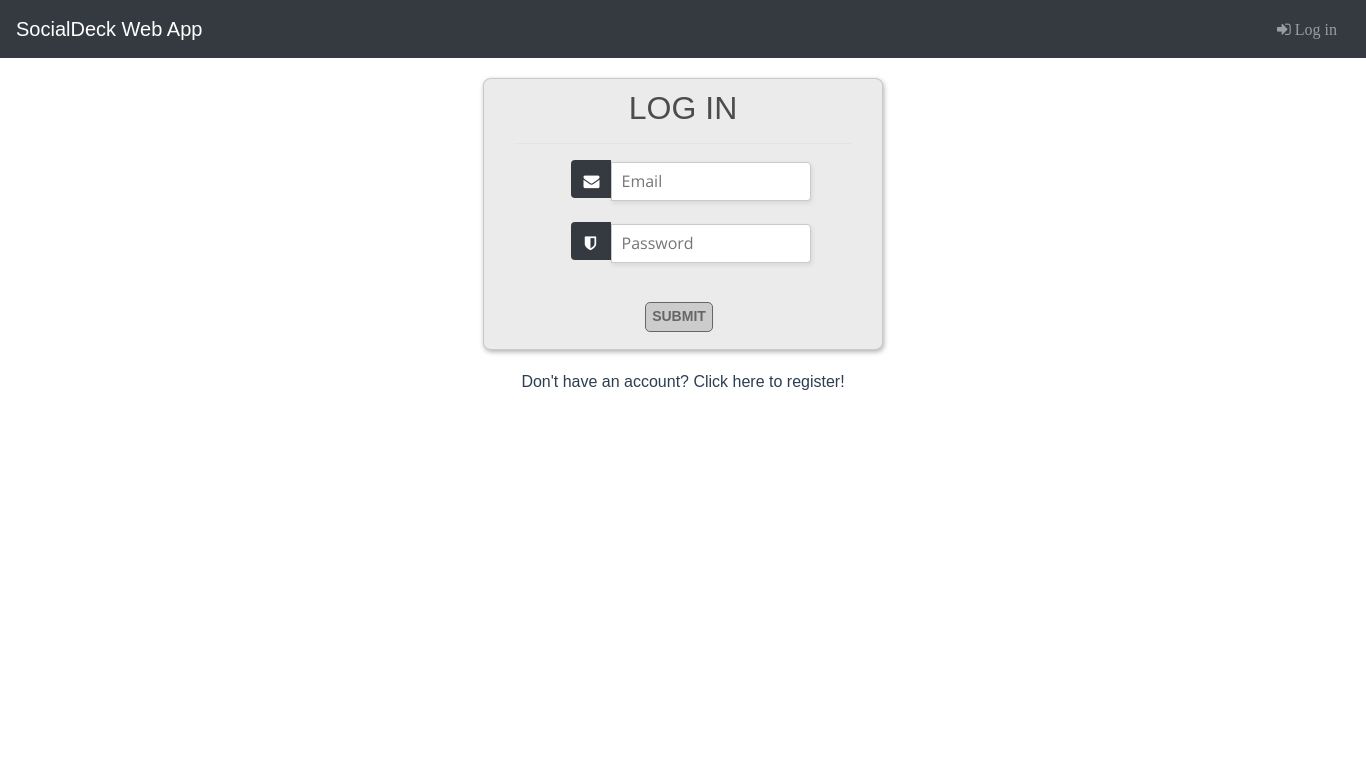
Test: Authentication page › When a user enters the sign in page › and is an invalid user › should fail if the email is not of valid format
The width and height of the screenshot is (1366, 768).
Click the link "Don't have an account? Click here to register!" at (683, 382), box [521,373,844,390]
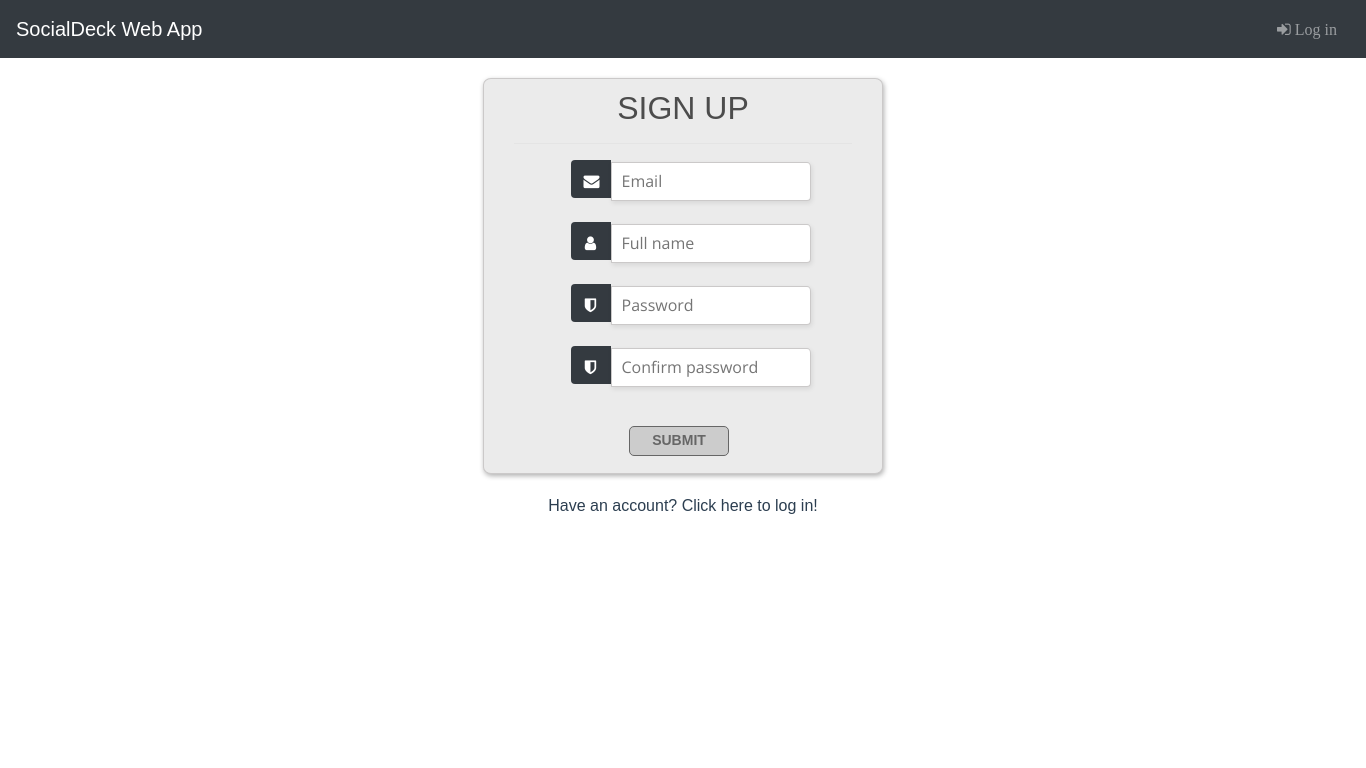
Type "nonexistent@" into the field with id "email" at (711, 182), box [611,162,811,201]
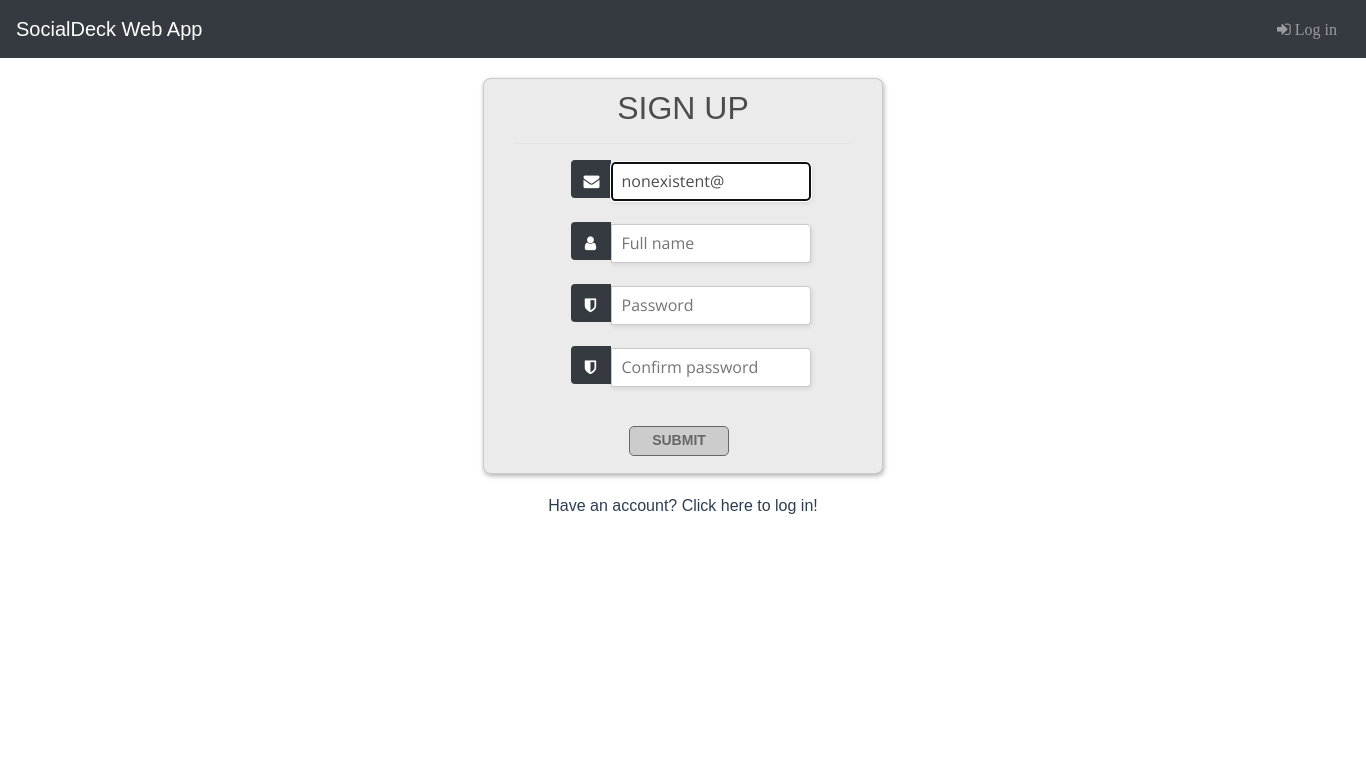
Type "Tsvetoslav Dimov" into the field with id "fullName" at (711, 244), box [611,224,811,263]
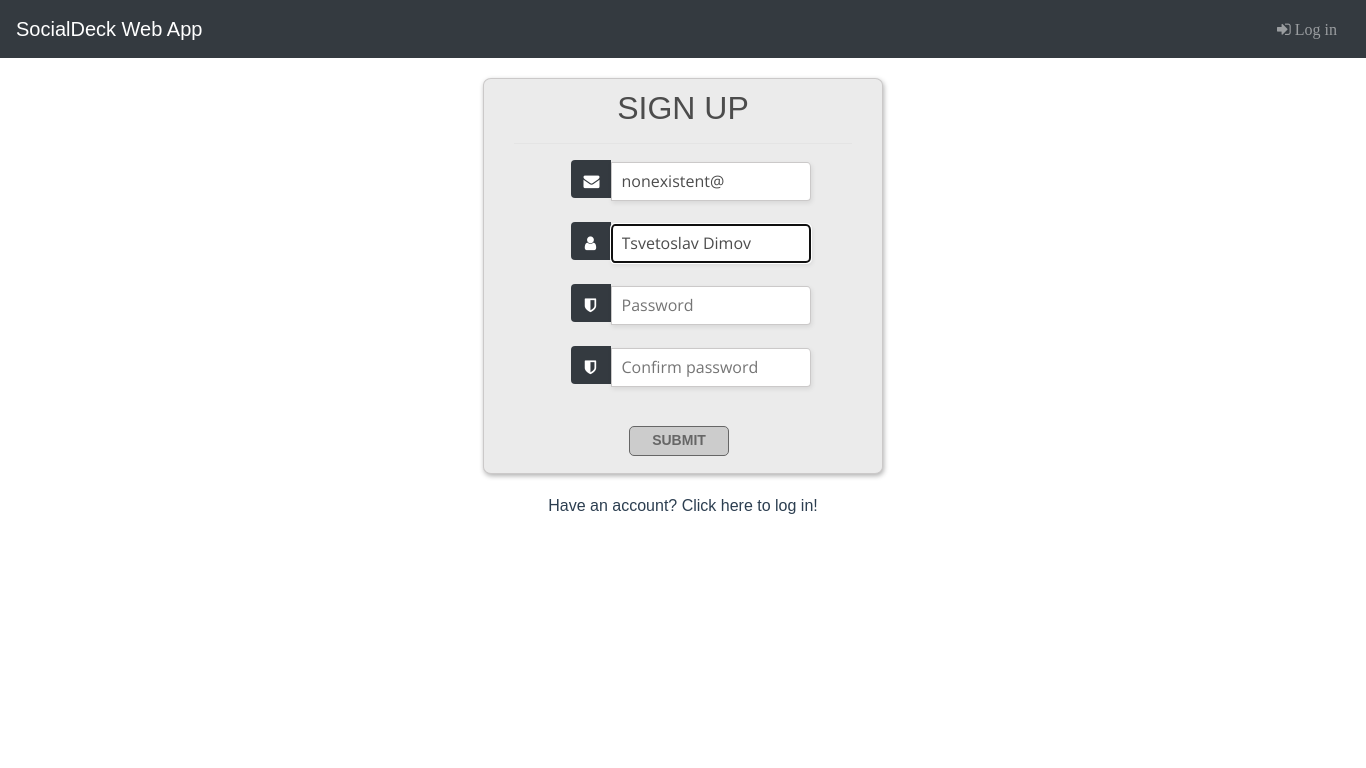
Type "123456" into the password field with placeholder "Password" at (711, 306), box [611,286,811,325]
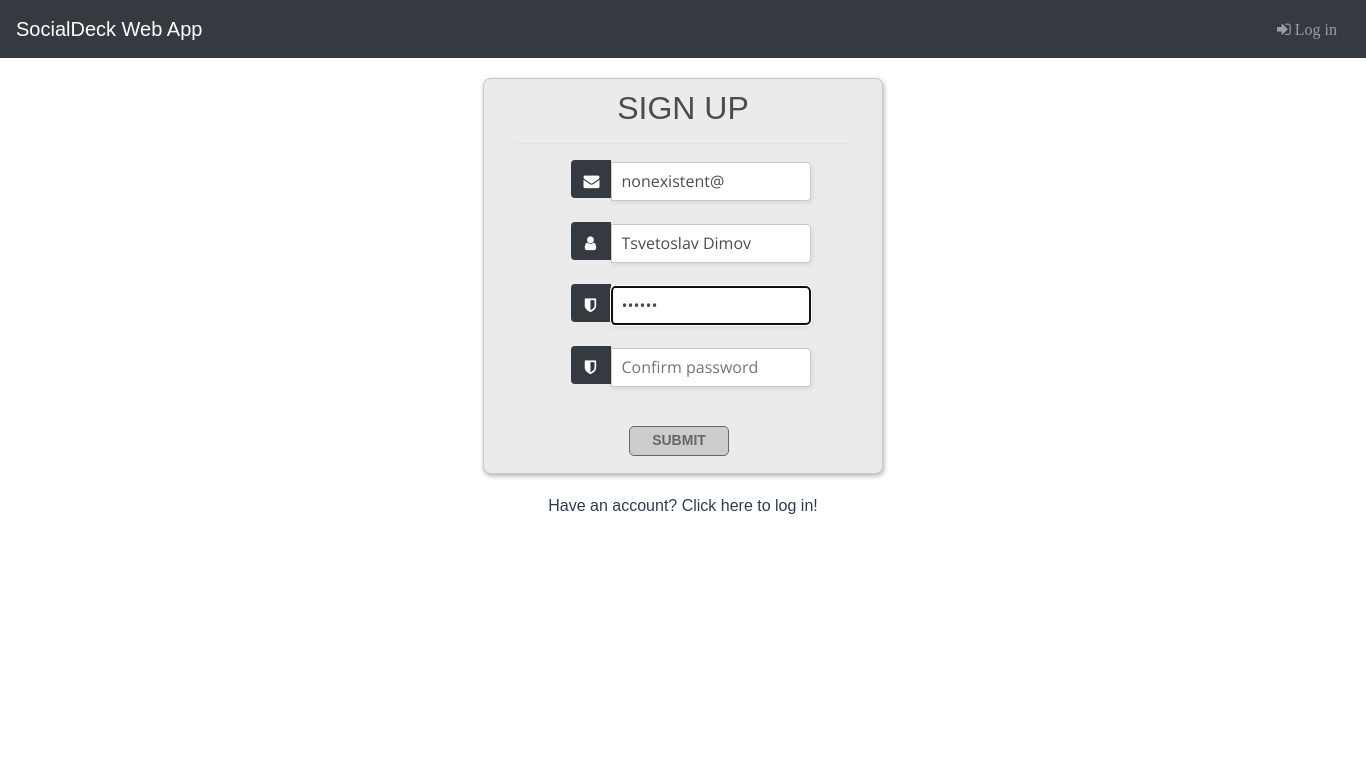
Type "123456" into the password field with id "confirmPass" at (711, 368), box [611,348,811,387]
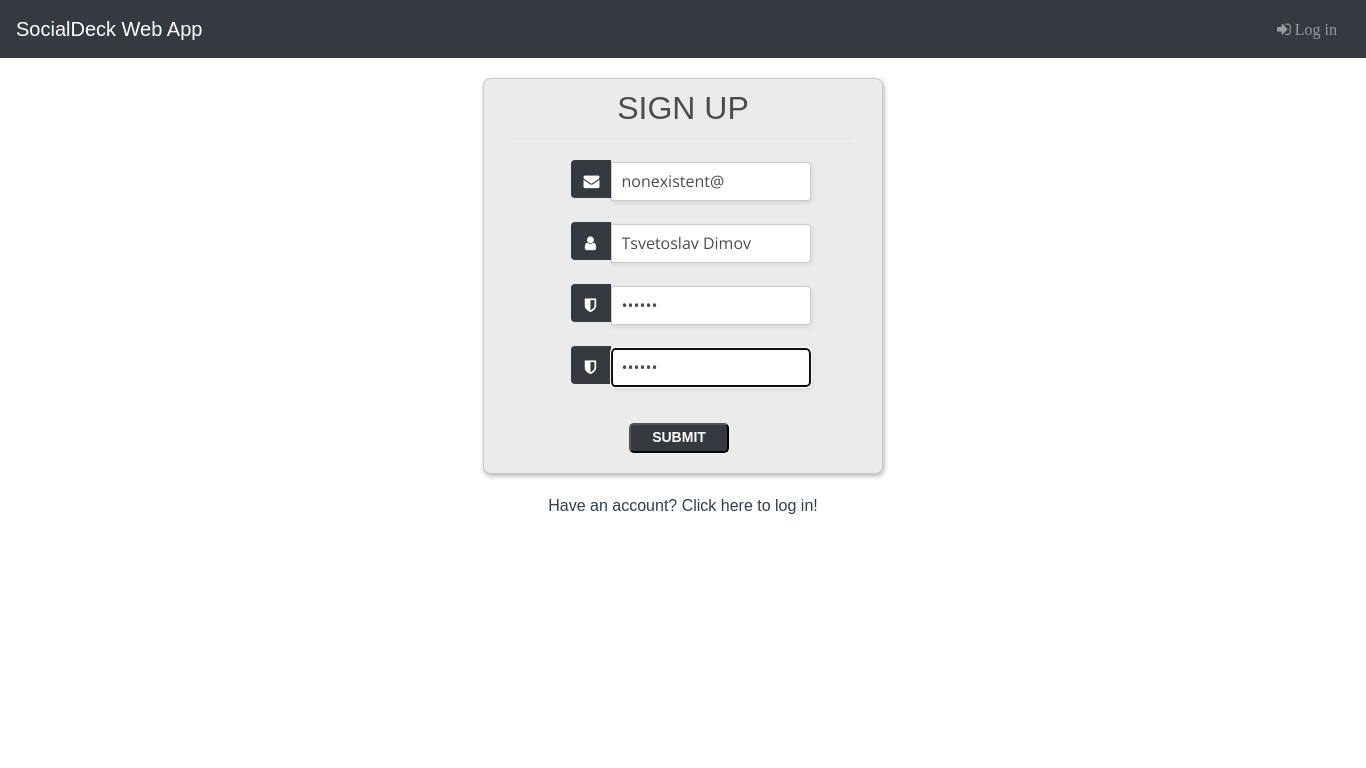
Click the button "SUBMIT" at (679, 438), box [629,423,729,453]
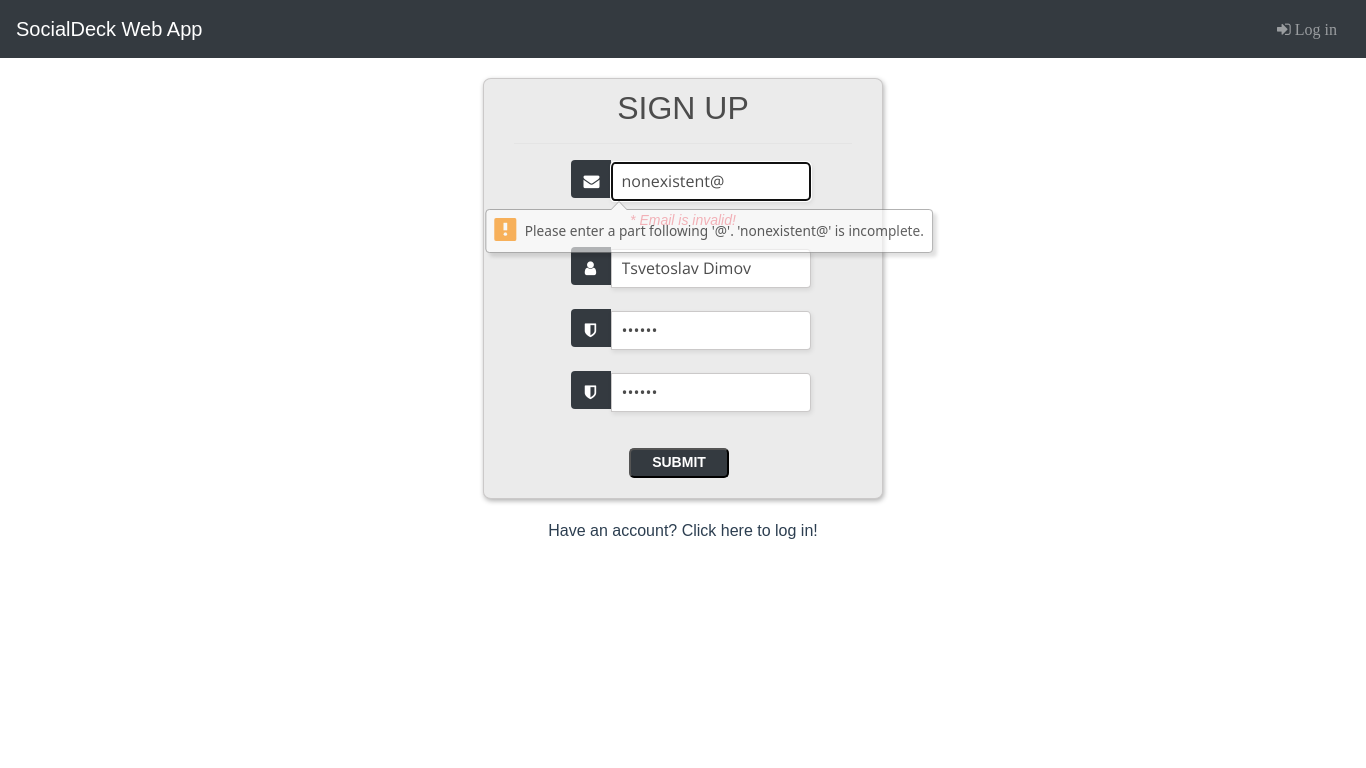
expect the text "* Email is invalid!" is shown: met, box [630,212,736,228]
